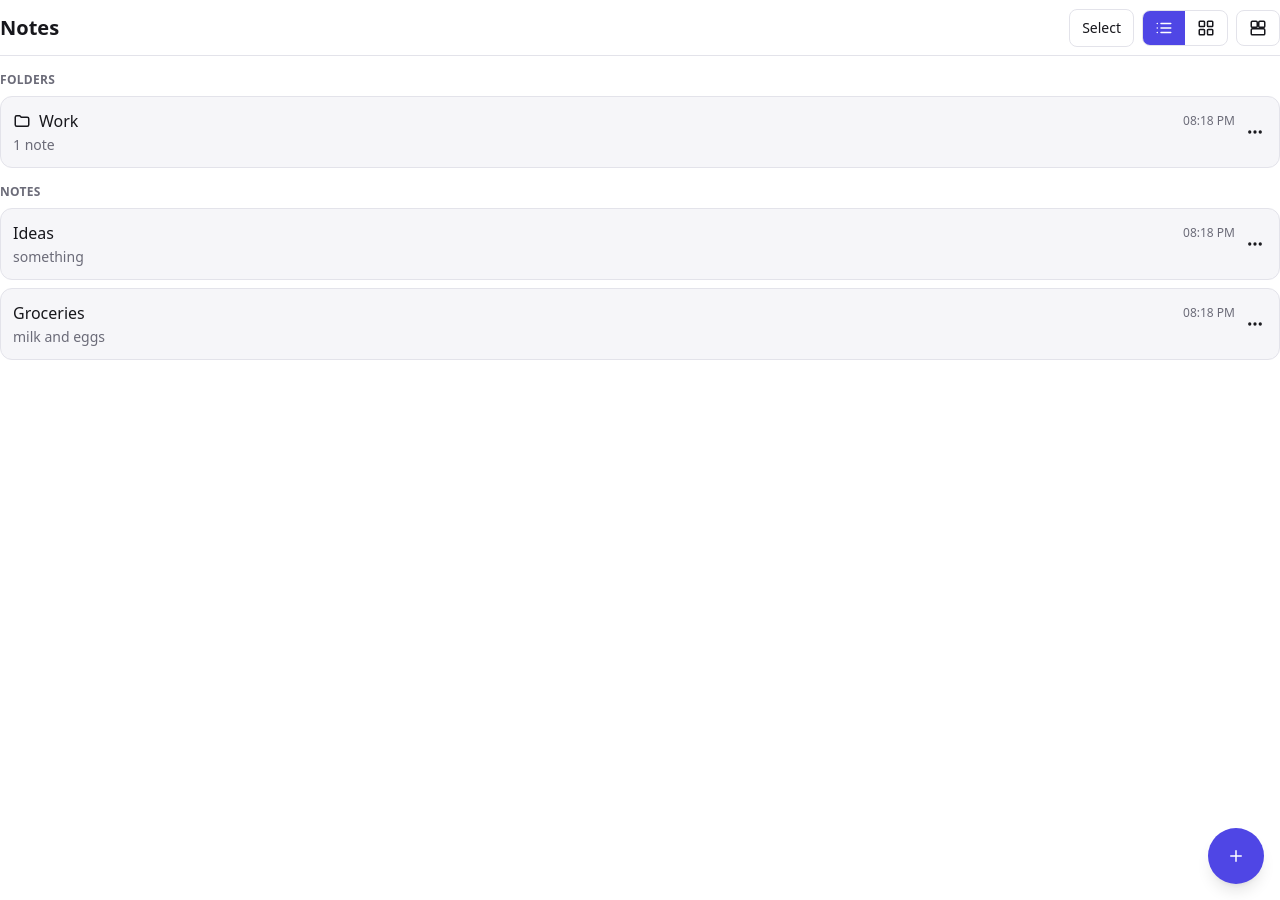
selection bar: phone "More" menu › greys out Rename in the menu unless exactly one item is chosen
The width and height of the screenshot is (1280, 900).
Step 1. Click the button "Select" → (1102, 28), box [1069,8,1134,46]
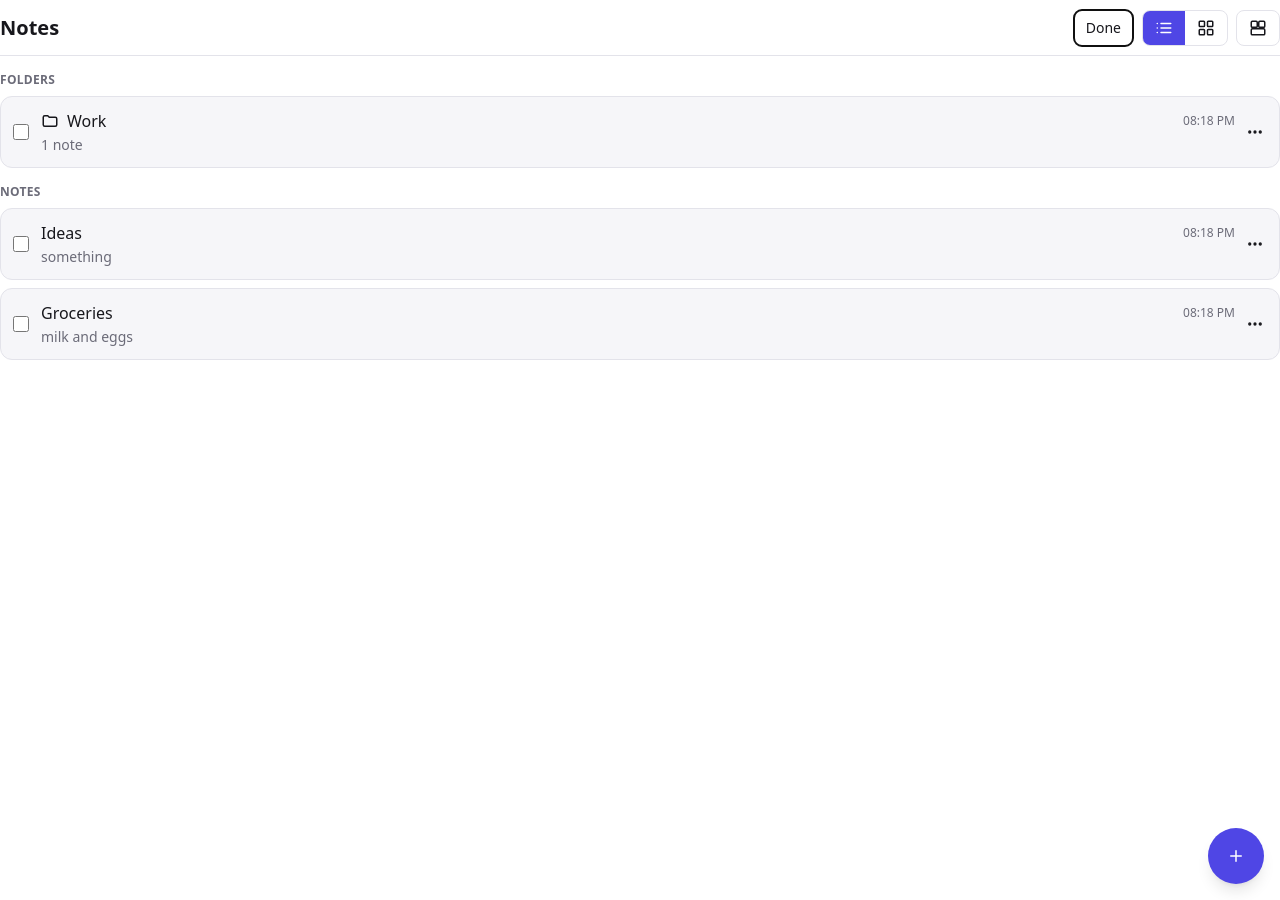
Step 2. Click the checkbox named "Select Groceries" → (21, 324), box [13,316,29,332]
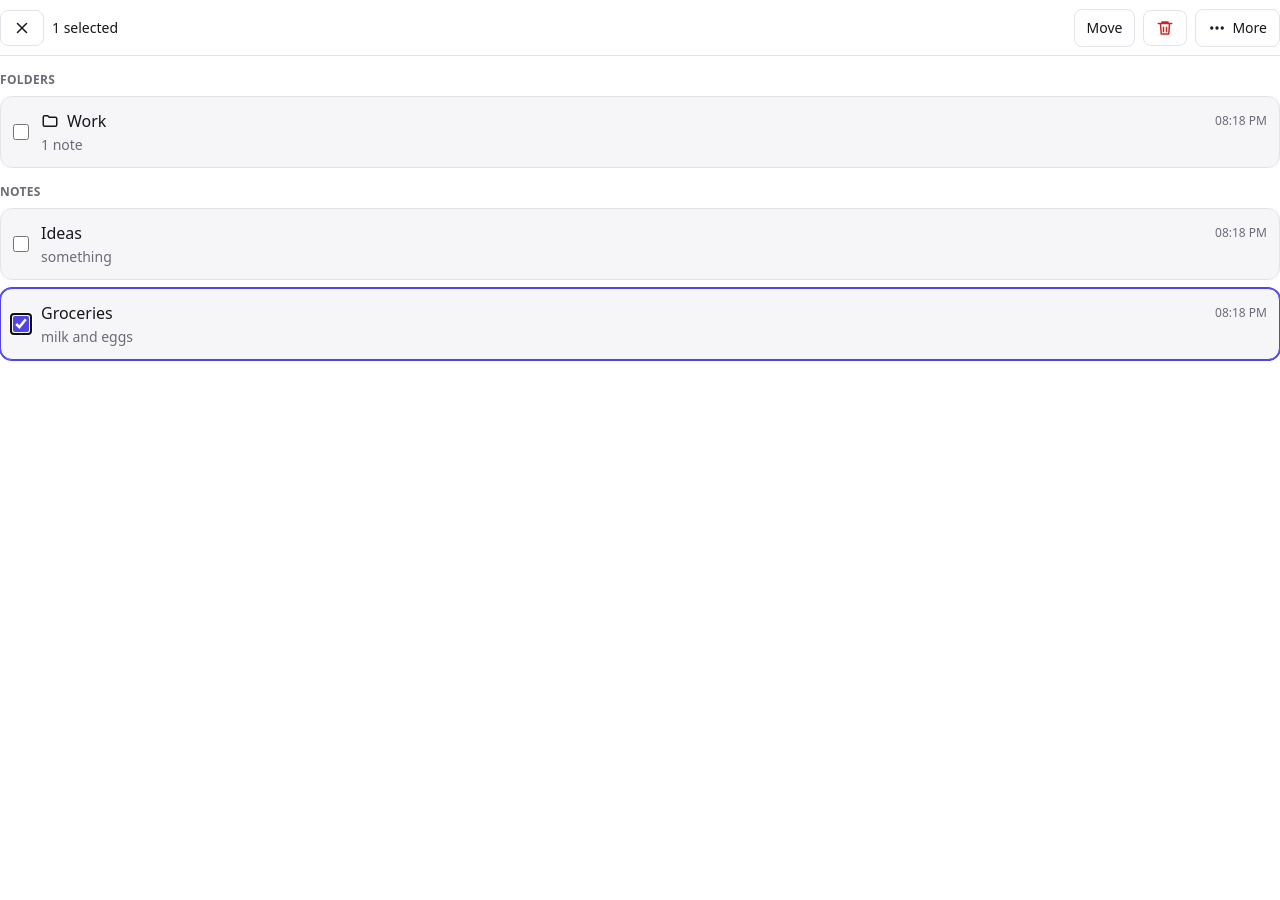
Step 3. Click the checkbox named "Select Ideas" → (21, 244), box [13,236,29,252]
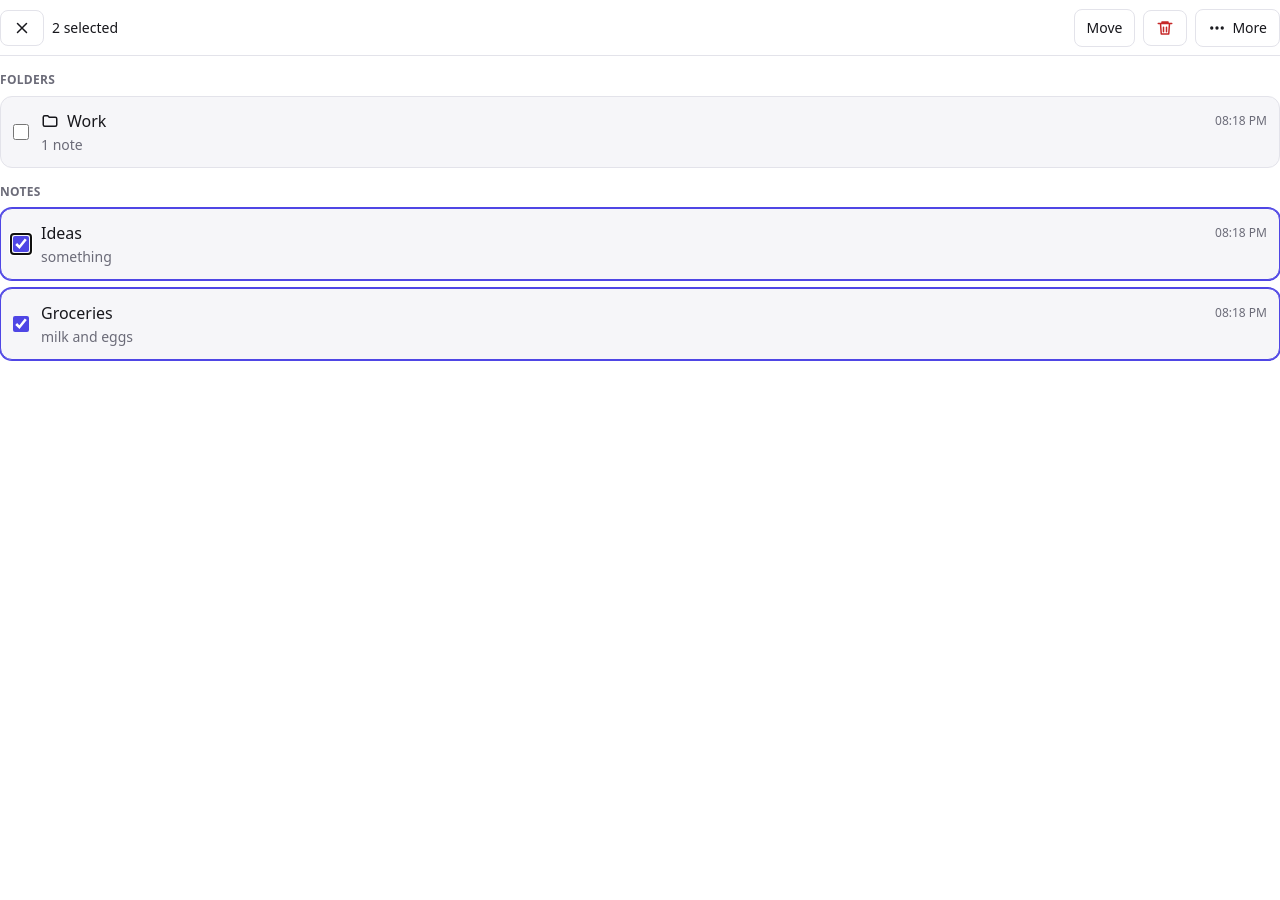
Step 4. Click the button with aria-label "More actions" → (1238, 28), box [1195,8,1279,46]
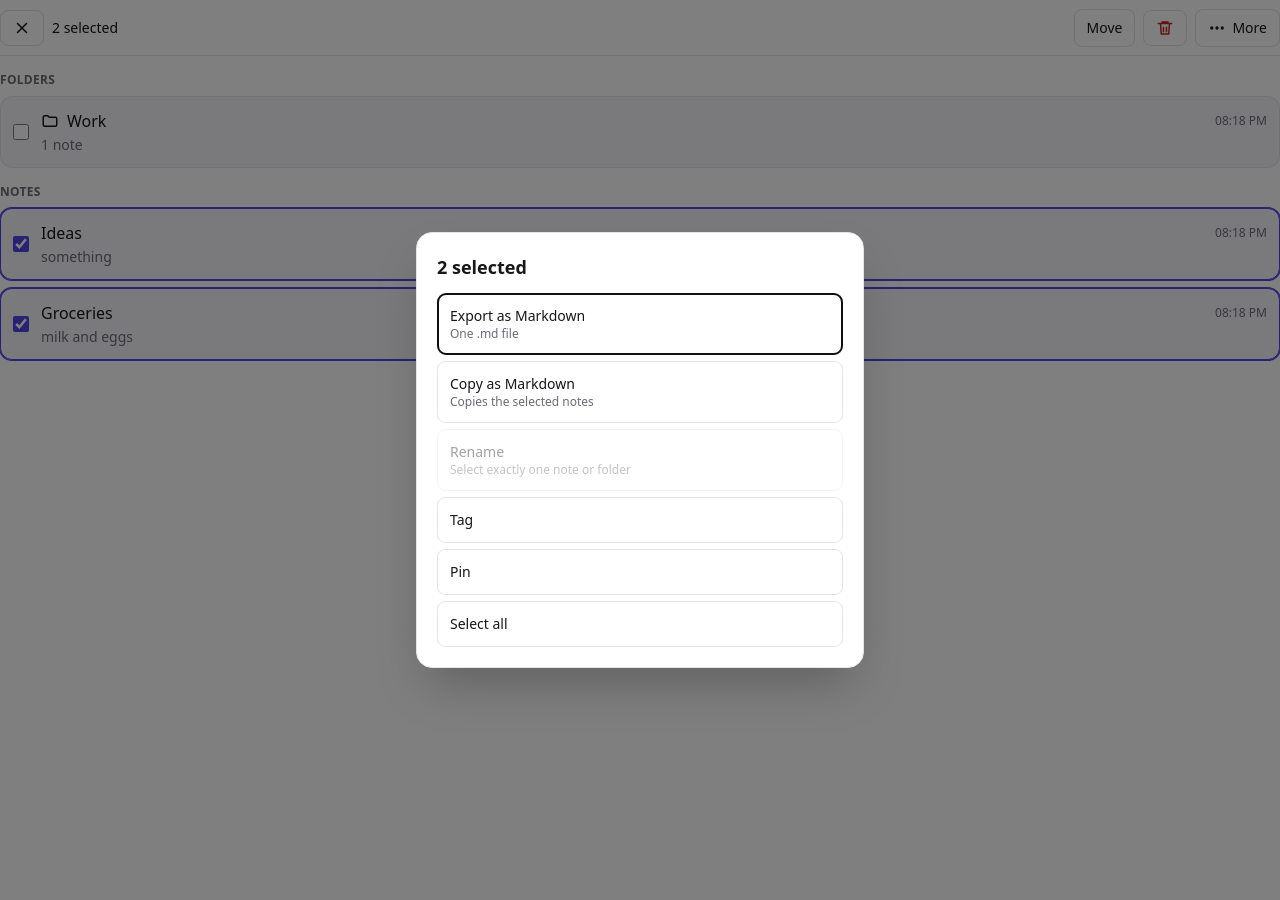
Now the menu item "Rename Select exactly one note or folder" is disabled, box [437,429,843,491]
Now the menu item "Rename Select exactly one note or folder" is shown, box [437,429,843,491]
